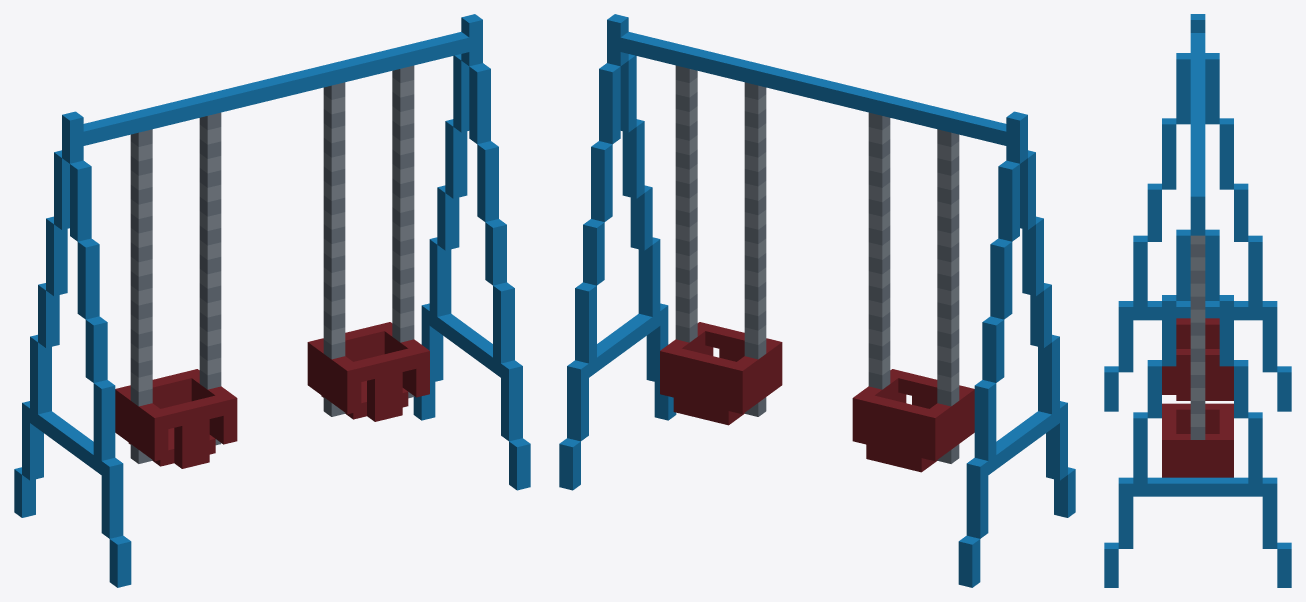
The model's file is Playground_Swing_02.glb.
3 renders of one model, left to right at view 1: azimuth 30°, elevation 25°; view 2: azimuth 150°, elevation 25°; view 3: azimuth 270°, elevation 25°, orthographic. The views are drawn at different scales.
Visible parts, largest first — view 1: Playground_Swing_02; view 2: Playground_Swing_02; view 3: Playground_Swing_02.
Boxes of the visible parts, x1=… form: Playground_Swing_02: x1=14, y1=14, x2=530, y2=587; Playground_Swing_02: x1=559, y1=14, x2=1075, y2=587; Playground_Swing_02: x1=1104, y1=14, x2=1291, y2=587.
Bounding box in the file's own units: 3 × 3 × 1.3.
1 material, 1 textured.
